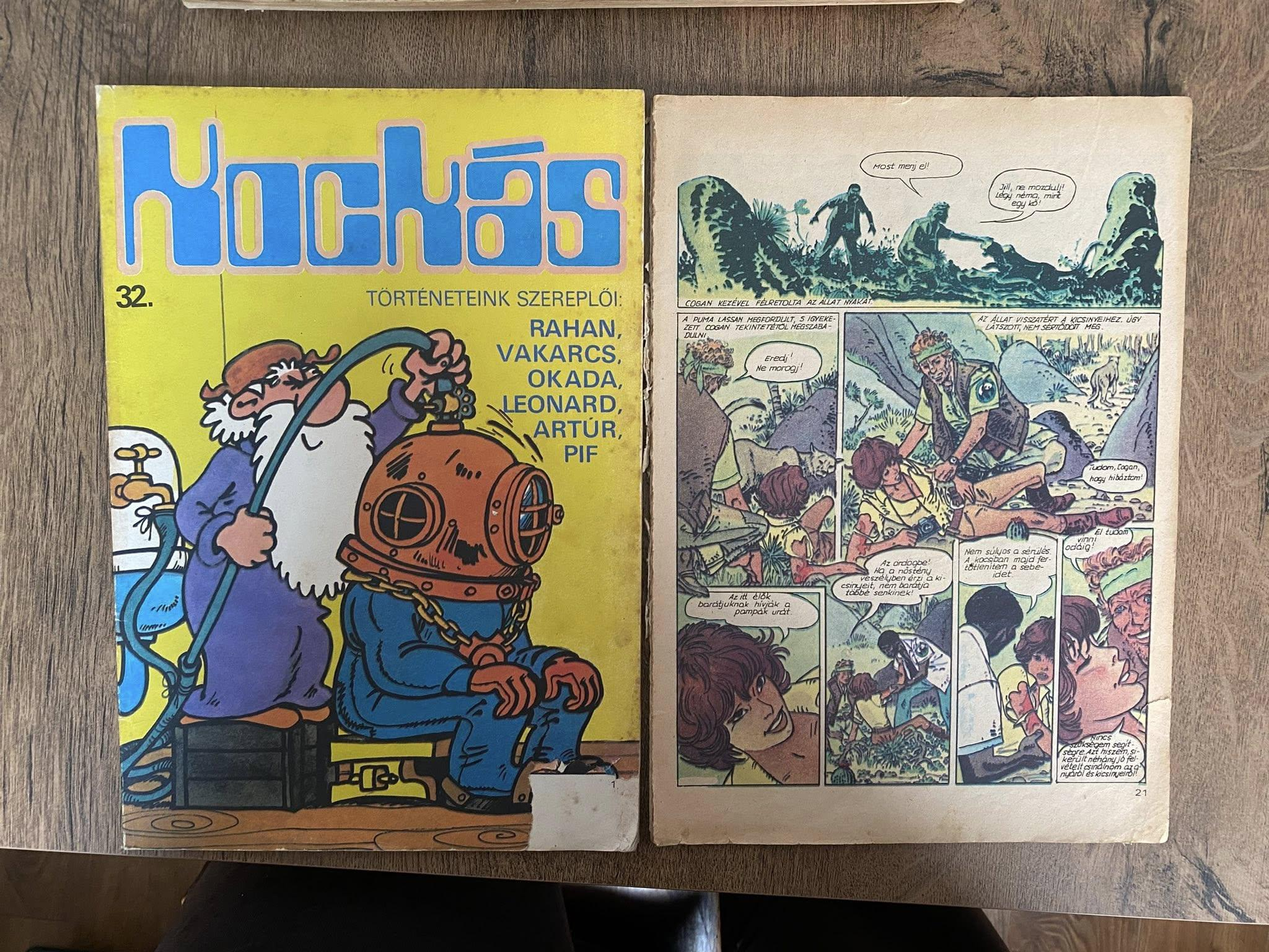comic: (96, 87, 643, 850), (648, 95, 1190, 845)
